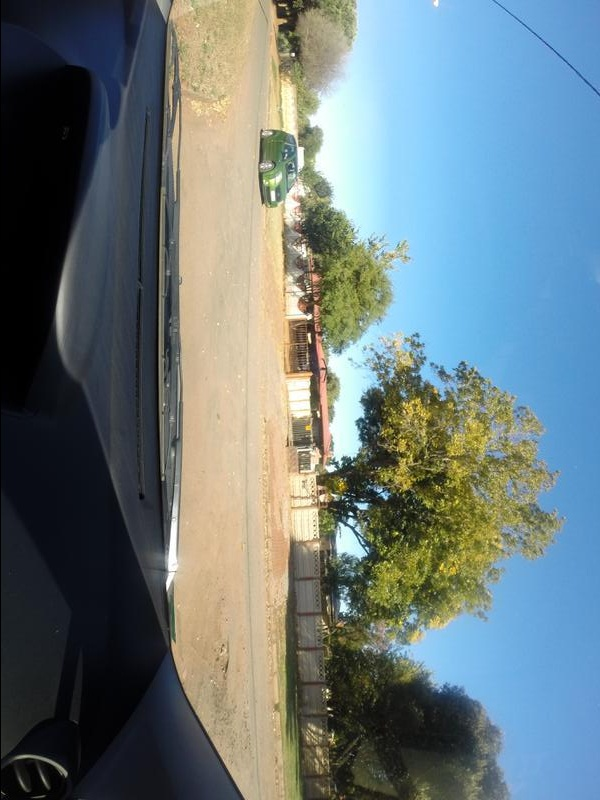pothole: (198, 616, 248, 709)
